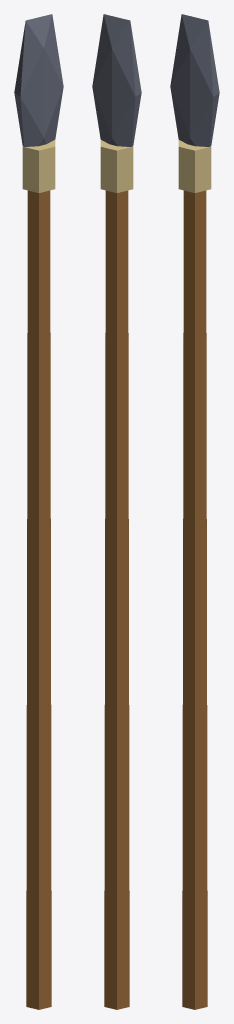
The model's file is spear.glb.
3 renders of one model, left to right at view 1: azimuth 30°, elevation 25°; view 2: azimuth 150°, elevation 25°; view 3: azimuth 330°, elevation 25°, orthographic.
Parts seen in each view (by area): view 1: spear; view 2: spear; view 3: spear.
Part boxes in pixels (left/top/right/bottom): spear: left=14, top=14, right=63, bottom=1009; spear: left=92, top=14, right=141, bottom=1009; spear: left=170, top=14, right=219, bottom=1009.
Size of the model in its own units: 0.0851 by 1.86 by 0.0554.
